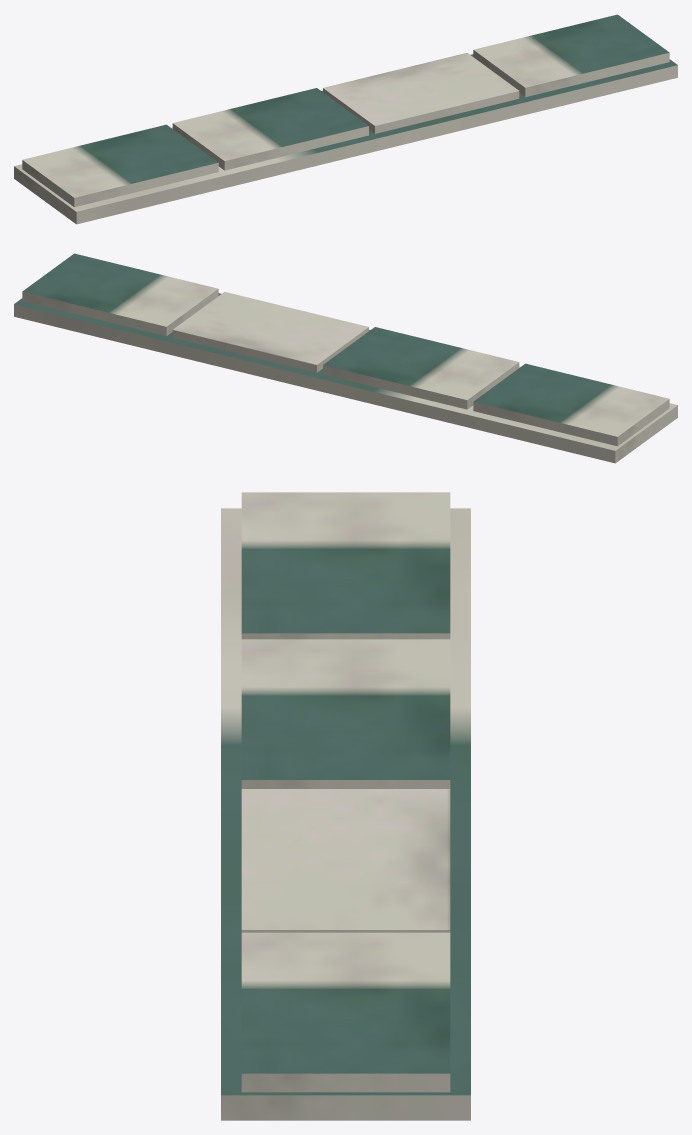
File: gutter.fbx
The picture shows the model from 3 angles, top to bottom: view 1: azimuth 30°, elevation 25°; view 2: azimuth 150°, elevation 25°; view 3: azimuth 270°, elevation 25°; orthographic projection. The views are drawn at different scales.
Parts seen in each view (by area): view 1: gutter; view 2: gutter; view 3: gutter.
Boxes of the visible parts, box(x1,y1,x2,y2) form: gutter: box(14, 14, 677, 224); gutter: box(14, 253, 677, 463); gutter: box(221, 492, 470, 1120).
Bounding box in the file's own units: 2 × 0.07 × 0.36.
